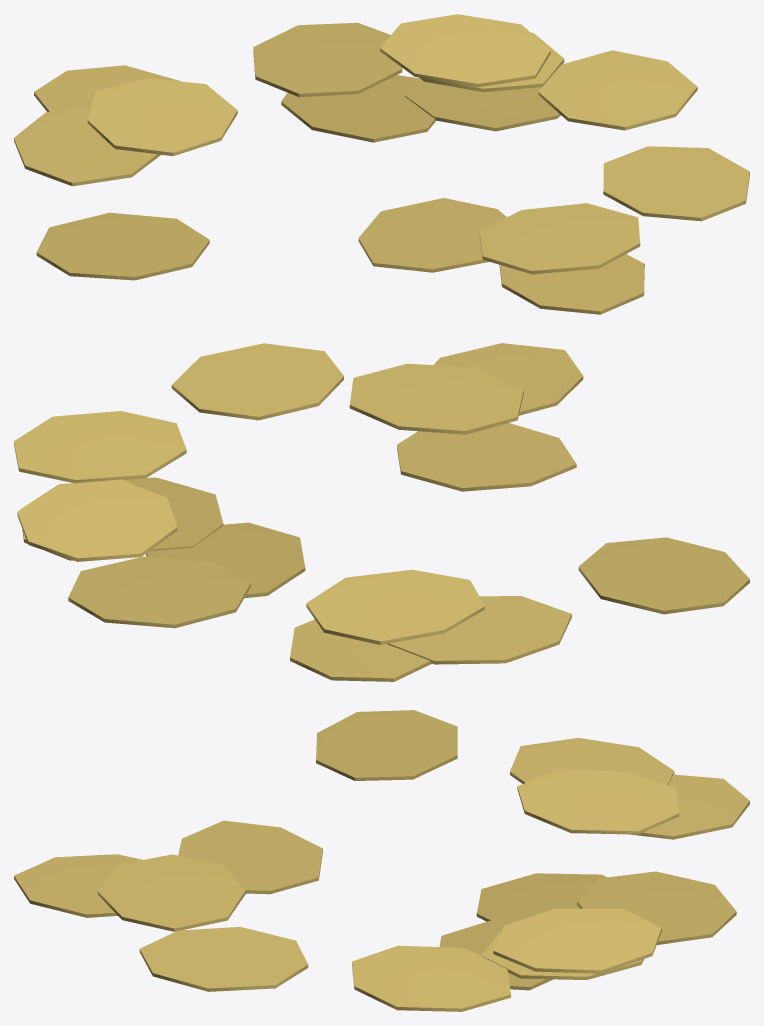
Rendered from fogtail_carp_scales.glb.
3 renders of one model, top to bottom at view 1: azimuth 30°, elevation 25°; view 2: azimuth 150°, elevation 25°; view 3: azimuth 270°, elevation 25°, orthographic. The views are drawn at different scales.
Visible parts, largest first — view 1: fogtail_carp_scales; view 2: fogtail_carp_scales; view 3: fogtail_carp_scales.
Part boxes in pixels (x1=…): fogtail_carp_scales: x1=14, y1=14, x2=749, y2=314; fogtail_carp_scales: x1=14, y1=343, x2=749, y2=681; fogtail_carp_scales: x1=14, y1=710, x2=749, y2=1011.
Size of the model in its own units: 0.06 by 0.002 by 0.06.
